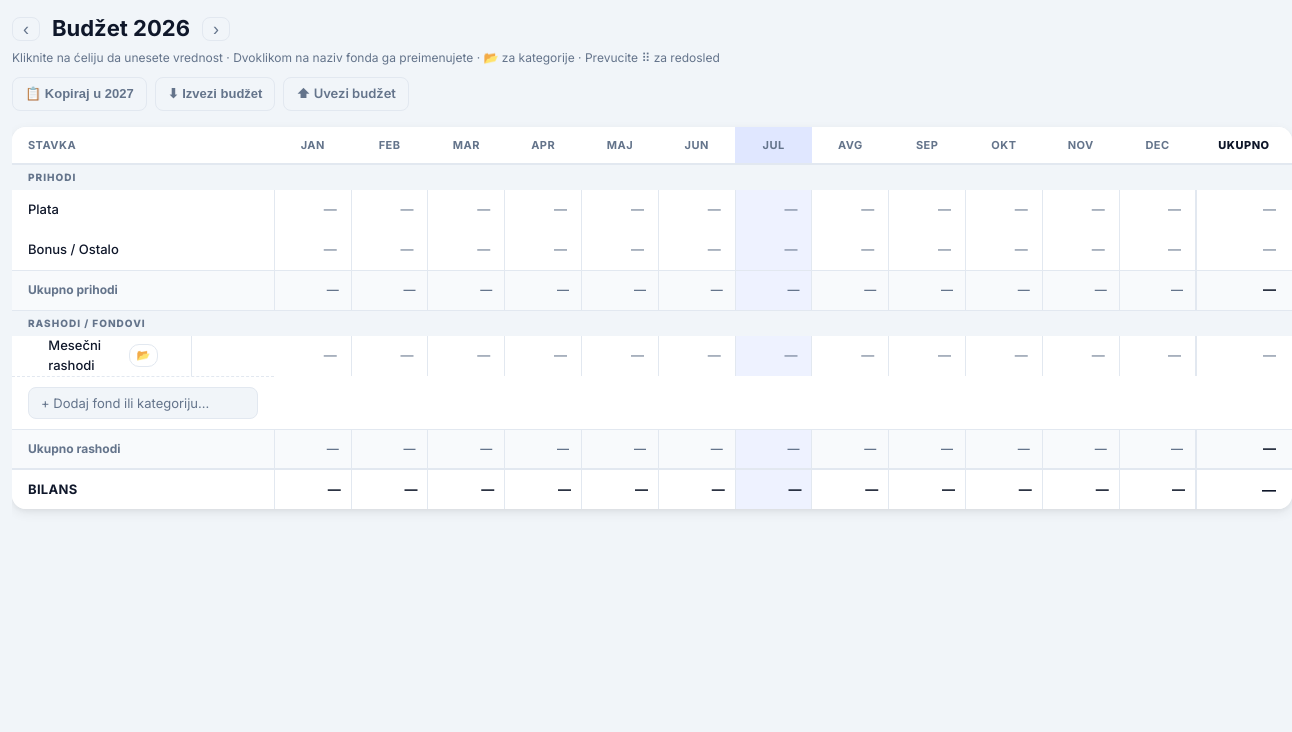
Test: BudgetView — inline tracking panel › clicking chip again collapses the panel
Click the button titled "Kategorije troškova za ovaj fond" at {"x": 143, "y": 356}, box [128, 344, 158, 367]
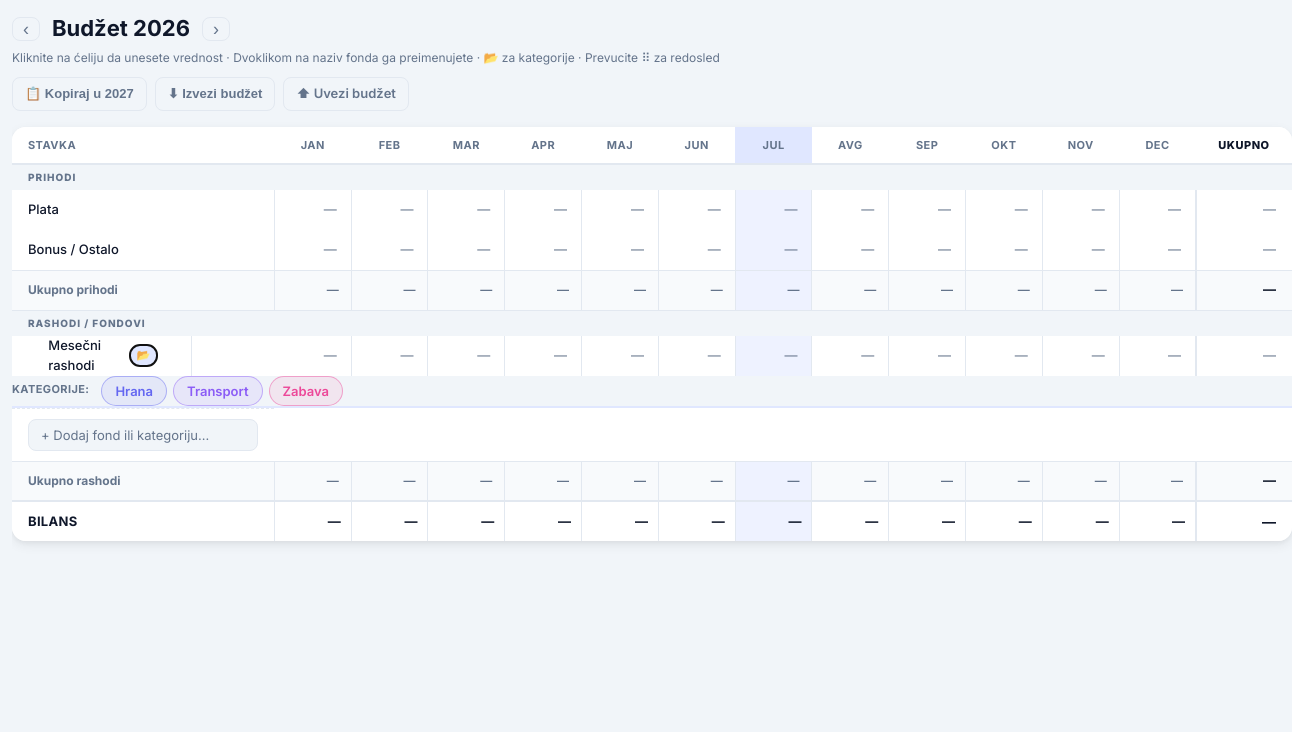
Check: the button "Hrana" is shown, box [101, 376, 167, 406]
Click the button titled "Sakrij kategorije" at {"x": 143, "y": 356}, box [128, 344, 158, 367]
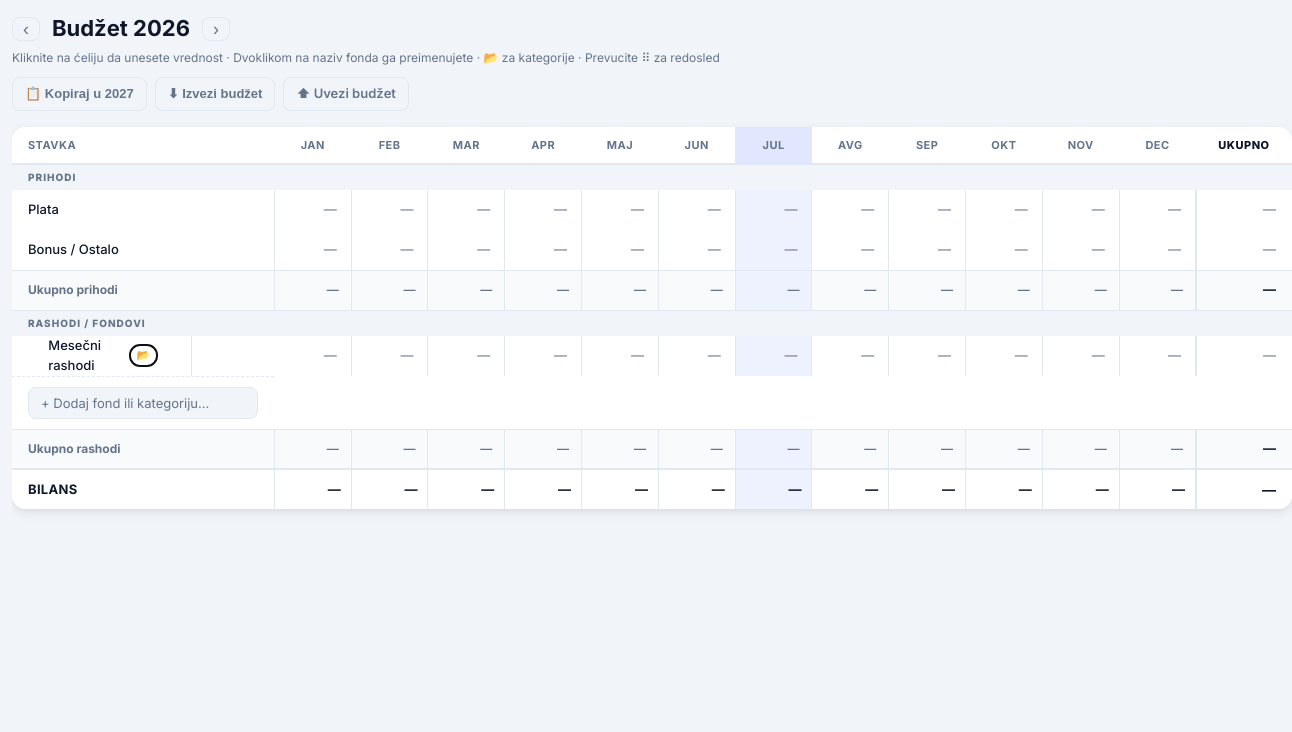
Check: the button "Hrana" is gone
